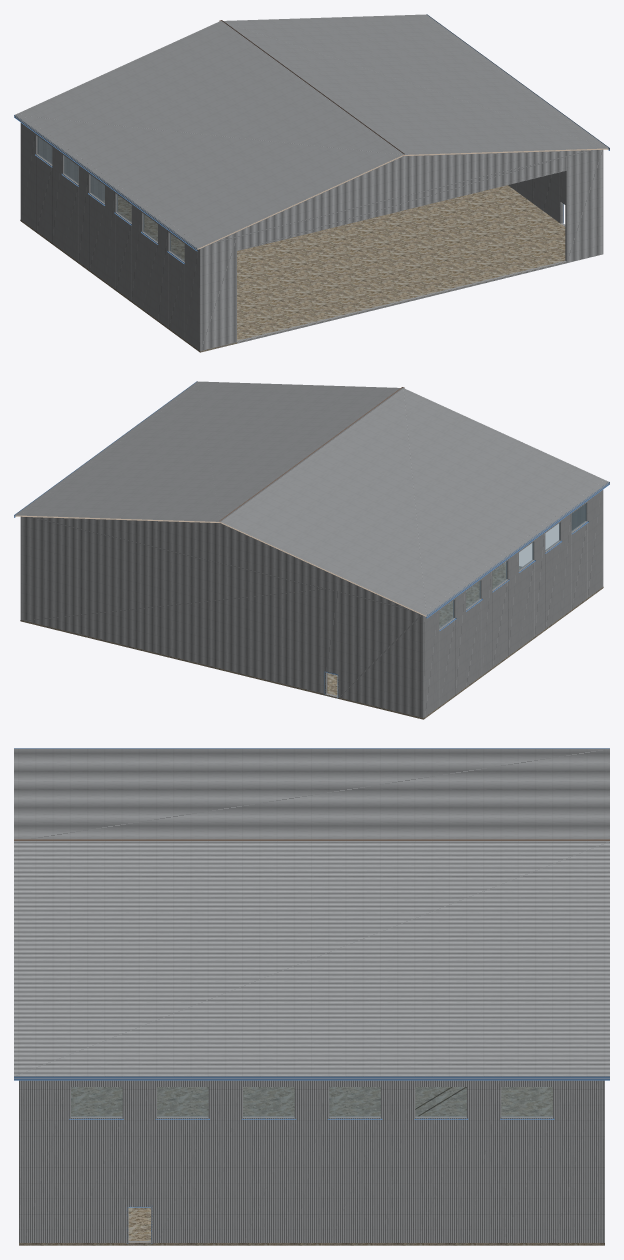
The model's file is air-hangar.zfix-v5.lod1.glb.
3 renders of one model, top to bottom at view 1: azimuth 30°, elevation 25°; view 2: azimuth 150°, elevation 25°; view 3: azimuth 270°, elevation 25°, orthographic. The views are drawn at different scales.
Visible parts, largest first — view 1: air-hangar; view 2: air-hangar; view 3: air-hangar.
Part boxes in pixels (<box>): air-hangar: <box>14,14,609,352</box>; air-hangar: <box>14,381,609,719</box>; air-hangar: <box>14,748,609,1245</box>.
Bounding box in the file's own units: 45.08 × 15.71 × 34.6.
5 materials, 3 textured.
